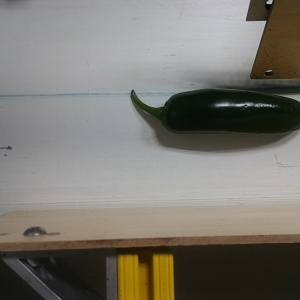Cut Point: (151, 90, 187, 136)
